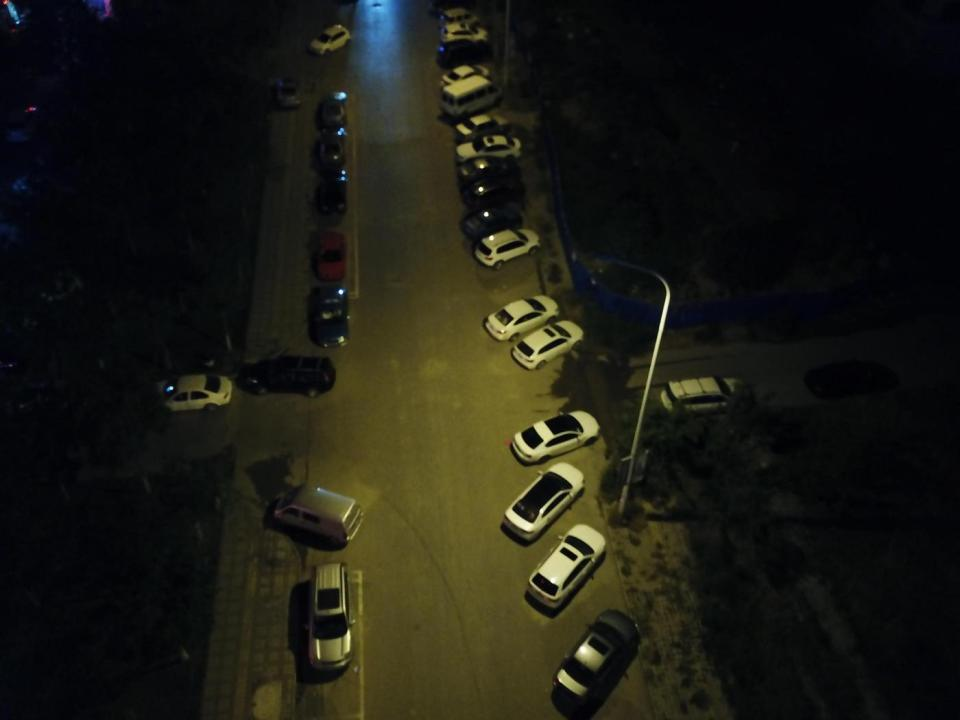car: (548, 608, 640, 707), (523, 523, 608, 613), (500, 463, 585, 542), (302, 562, 358, 673), (506, 406, 600, 465), (800, 357, 904, 406), (482, 292, 562, 346), (241, 353, 336, 398), (511, 318, 587, 370), (662, 378, 756, 419), (149, 370, 234, 414), (473, 226, 543, 270), (312, 280, 350, 352), (461, 204, 526, 241), (461, 176, 528, 209), (448, 113, 516, 142), (454, 137, 523, 162), (457, 156, 520, 183), (314, 226, 346, 279), (309, 22, 354, 57), (438, 38, 494, 66), (314, 172, 350, 214), (436, 65, 495, 87), (316, 87, 347, 128), (274, 68, 304, 110), (316, 130, 347, 167), (437, 22, 488, 42), (438, 7, 479, 26)
van: (268, 485, 366, 546), (442, 76, 504, 117)
